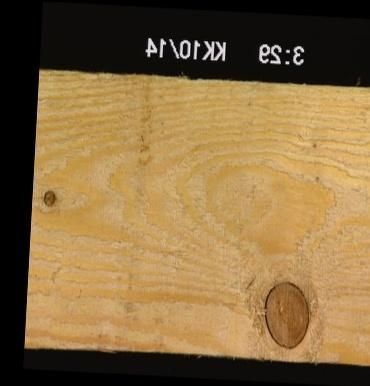dry_knot: (261, 277, 311, 349), (41, 186, 58, 207)
